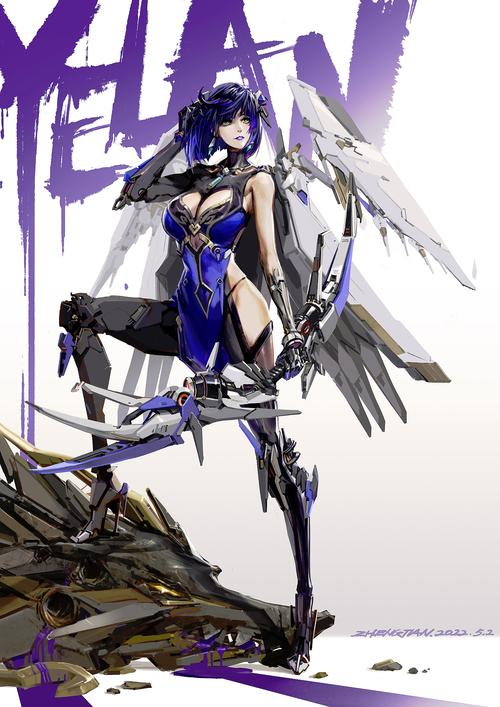夜兰: (59, 84, 326, 681)
